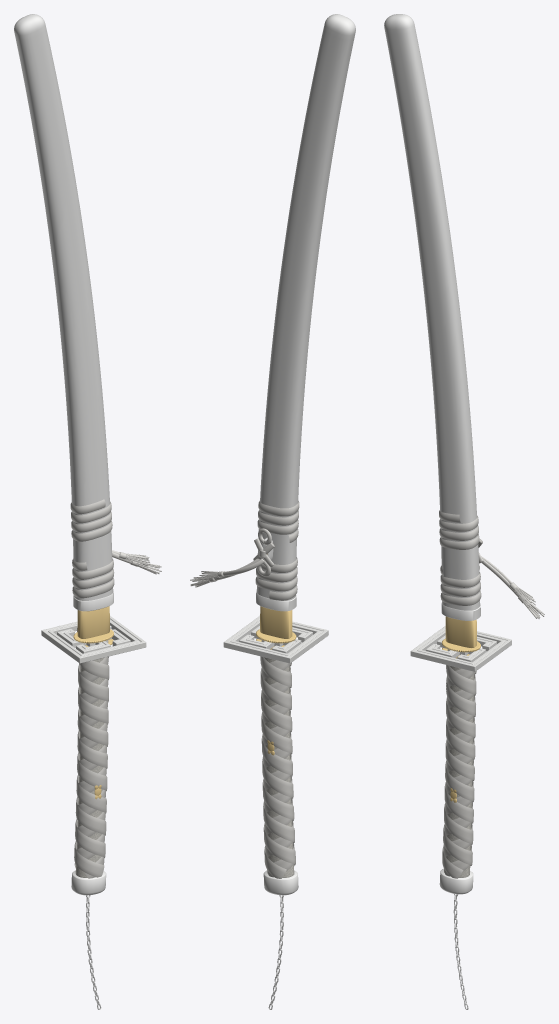
File: katana_light.opt.glb
3 renders of one model, left to right at view 1: azimuth 30°, elevation 25°; view 2: azimuth 150°, elevation 25°; view 3: azimuth 330°, elevation 25°, orthographic. The views are drawn at different scales.
Parts seen in each view (by area): view 1: KL_Saya_Body, KL_Tsuka_Ito, KL_Sageo_Wrap, KL_Tsuba, KL_Habaki, KL_Tsuka_Core, KL_Kashira, KL_Sageo_Knot_Tassel, KL_Saya_Koiguchi, KL_Chain; view 2: KL_Saya_Body, KL_Tsuka_Ito, KL_Sageo_Wrap, KL_Tsuba, KL_Sageo_Knot_Tassel, KL_Habaki, KL_Tsuka_Core, KL_Kashira, KL_Saya_Koiguchi, KL_Chain; view 3: KL_Saya_Body, KL_Tsuka_Ito, KL_Sageo_Wrap, KL_Tsuba, KL_Habaki, KL_Tsuka_Core, KL_Sageo_Knot_Tassel, KL_Kashira, KL_Saya_Koiguchi, KL_Chain.
Part boxes in pixels (bbox=[...]): KL_Saya_Body: bbox=[14, 14, 113, 600]; KL_Tsuka_Ito: bbox=[74, 656, 109, 878]; KL_Sageo_Wrap: bbox=[70, 499, 114, 598]; KL_Tsuba: bbox=[41, 616, 146, 663]; KL_Habaki: bbox=[77, 606, 109, 638]; KL_Tsuka_Core: bbox=[75, 657, 104, 877]; KL_Kashira: bbox=[71, 870, 106, 895]; KL_Sageo_Knot_Tassel: bbox=[112, 550, 161, 574]; KL_Saya_Koiguchi: bbox=[73, 591, 113, 611]; KL_Chain: bbox=[86, 897, 101, 1009]; KL_Saya_Body: bbox=[256, 14, 355, 600]; KL_Tsuka_Ito: bbox=[260, 656, 295, 878]; KL_Sageo_Wrap: bbox=[255, 501, 299, 600]; KL_Tsuba: bbox=[223, 616, 328, 663]; KL_Sageo_Knot_Tassel: bbox=[190, 528, 275, 587]; KL_Habaki: bbox=[260, 606, 292, 638]; KL_Tsuka_Core: bbox=[264, 657, 294, 877]; KL_Kashira: bbox=[263, 870, 298, 895]; KL_Saya_Koiguchi: bbox=[256, 592, 296, 611]; KL_Chain: bbox=[268, 897, 283, 1009]; KL_Saya_Body: bbox=[384, 14, 480, 610]; KL_Tsuka_Ito: bbox=[442, 665, 476, 878]; KL_Sageo_Wrap: bbox=[439, 510, 481, 605]; KL_Tsuba: bbox=[410, 626, 511, 671]; KL_Habaki: bbox=[445, 616, 476, 647]; KL_Tsuka_Core: bbox=[444, 666, 474, 877]; KL_Sageo_Knot_Tassel: bbox=[478, 534, 544, 618]; KL_Kashira: bbox=[439, 868, 473, 894]; KL_Saya_Koiguchi: bbox=[441, 603, 480, 620]; KL_Chain: bbox=[453, 895, 468, 1009].
Size of the model in its own units: 0.1909 by 1.19 by 0.082.
Materials: 7 (7 with a texture image).
